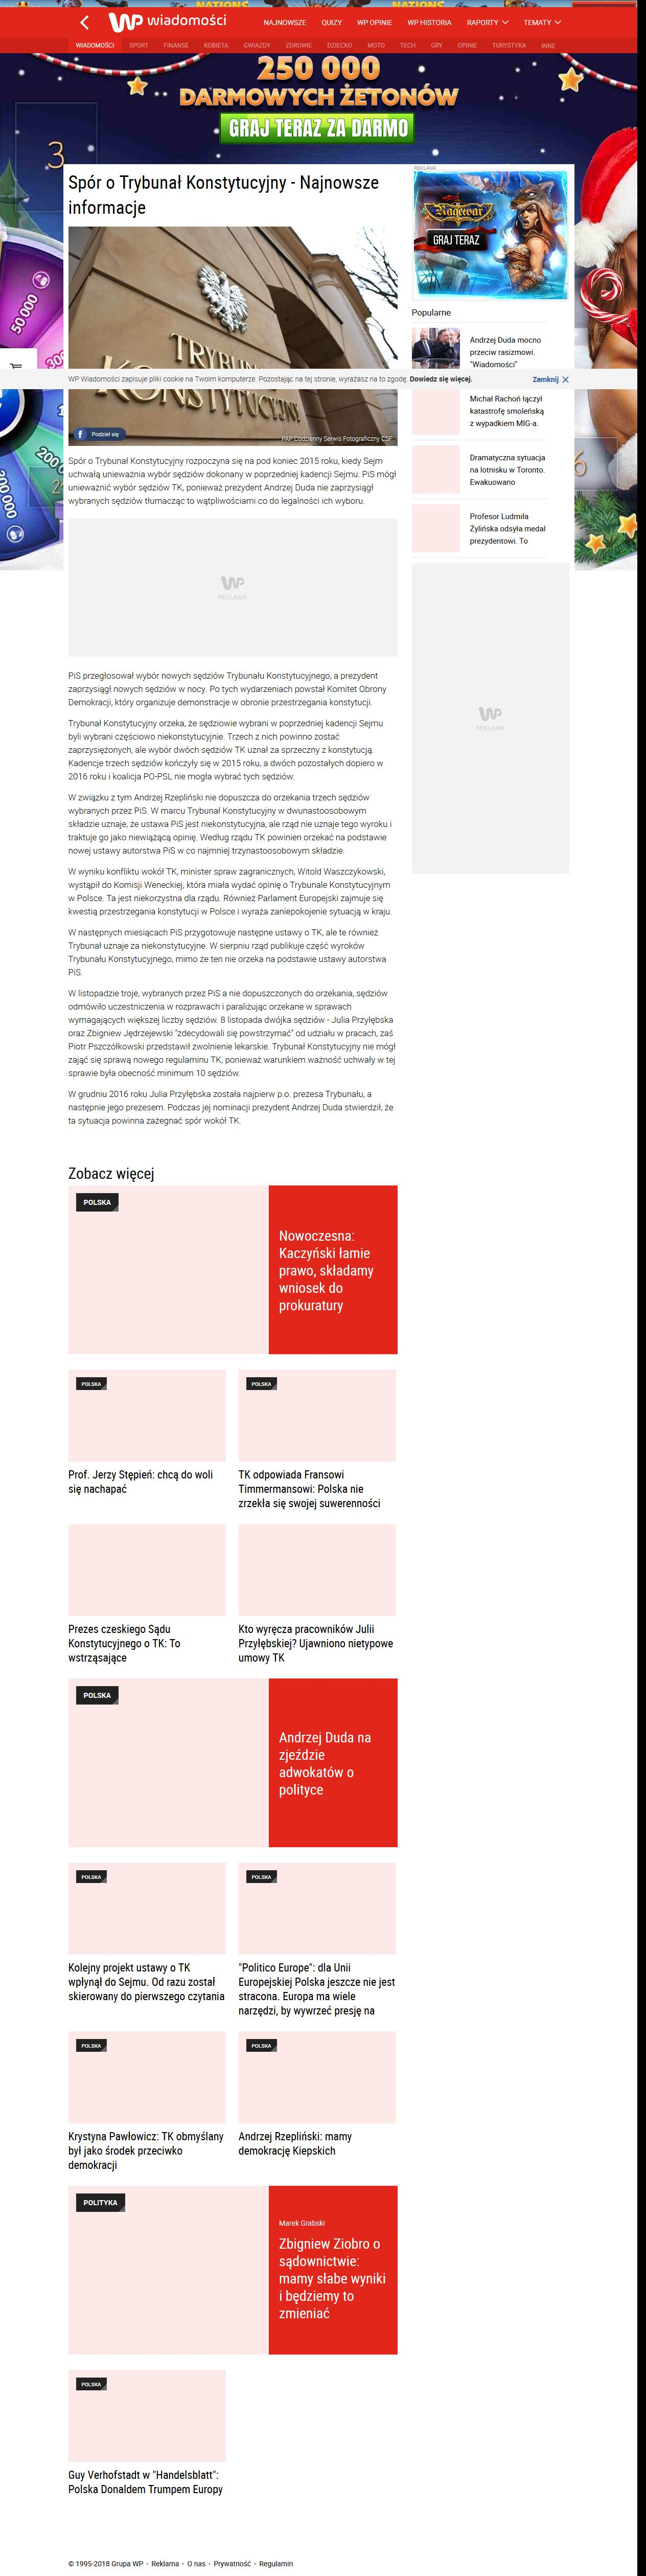title: (67, 174, 380, 218)
